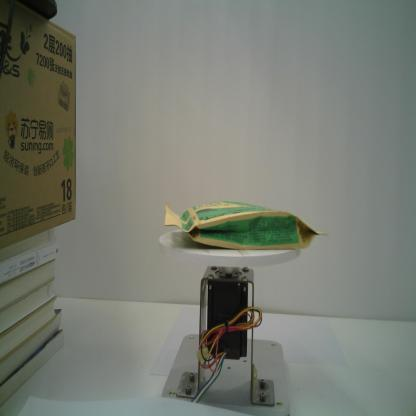Dried Food: (164, 200, 328, 249)
